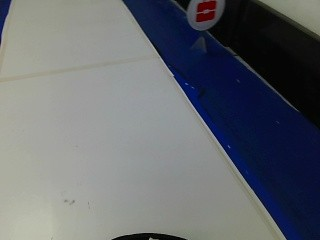company: (183, 0, 227, 29)
